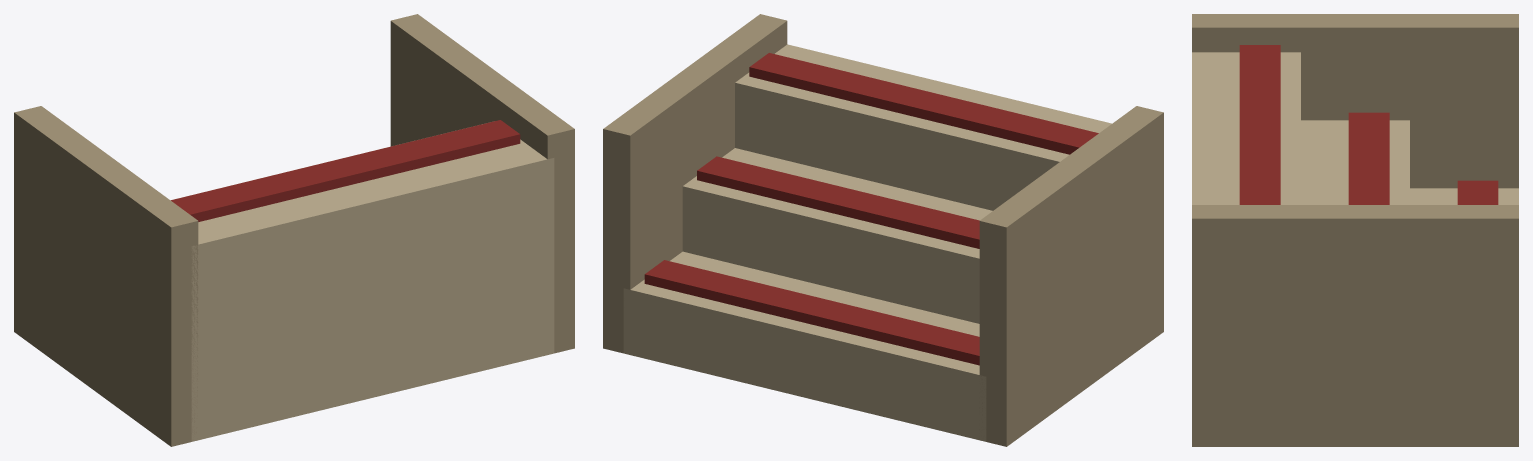
The model's file is stand_section.glb.
3 renders of one model, left to right at view 1: azimuth 30°, elevation 25°; view 2: azimuth 150°, elevation 25°; view 3: azimuth 270°, elevation 25°, orthographic. The views are drawn at different scales.
Visible parts, largest first — view 1: stand_section; view 2: stand_section; view 3: stand_section.
Boxes of the visible parts, x1,y1,x2,y2 form: stand_section: (14, 14, 574, 446); stand_section: (603, 14, 1163, 446); stand_section: (1192, 14, 1518, 446).
Bounding box in the file's own units: 3.56 × 1.85 × 2.4.
Materials: 1 (1 with a texture image).
